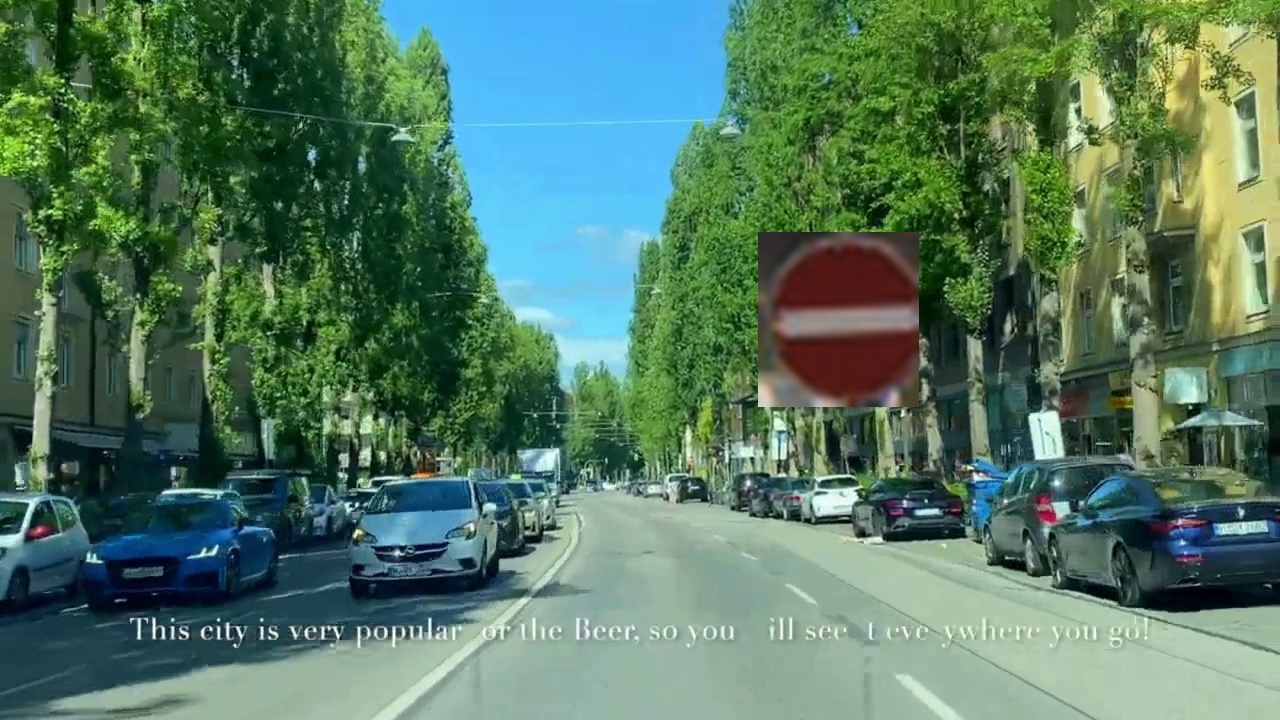No entry: (758, 232, 919, 407)
